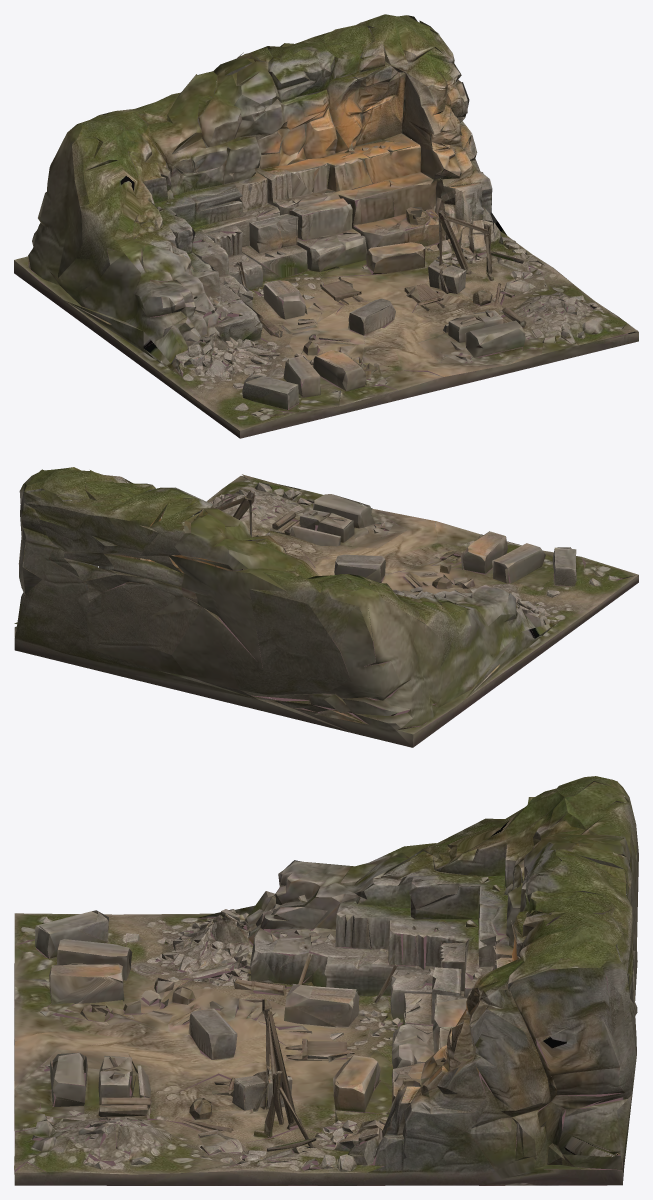
Rendered from quarry.glb.
The picture shows the model from 3 angles, top to bottom: view 1: azimuth 30°, elevation 25°; view 2: azimuth 150°, elevation 25°; view 3: azimuth 270°, elevation 25°; orthographic projection. The views are drawn at different scales.
Visible parts, largest first — view 1: output_unwrapped; view 2: output_unwrapped; view 3: output_unwrapped.
Boxes of the visible parts, left/top/right/bottom form: output_unwrapped: left=14, top=14, right=638, bottom=438; output_unwrapped: left=14, top=467, right=638, bottom=747; output_unwrapped: left=14, top=776, right=638, bottom=1185.
Size of the model in its own units: 13.94 by 5.91 by 14.
1 material, 1 textured.
